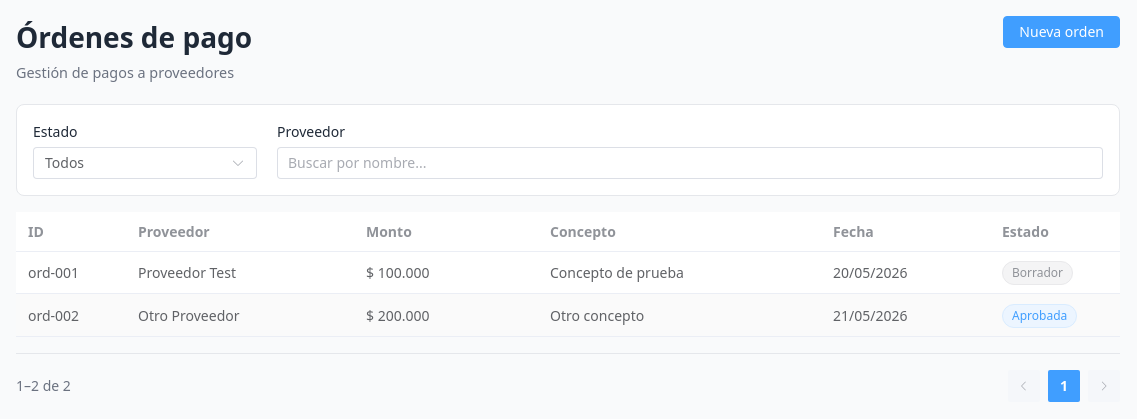
OrdersListView › filtra por nombre de proveedor
Type "Otro" into the field with placeholder "Buscar por nombre...". click: (690, 163)
box: top-left (288, 148), bottom-right (1092, 178)
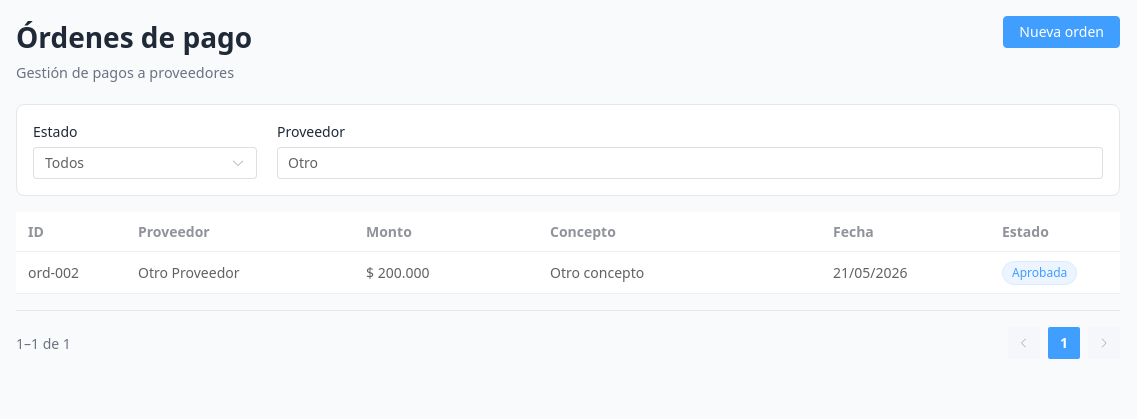
Check: the text "Otro Proveedor" is shown, box top-left (138, 263), bottom-right (240, 282)
Check: the text "Proveedor Test" is gone
